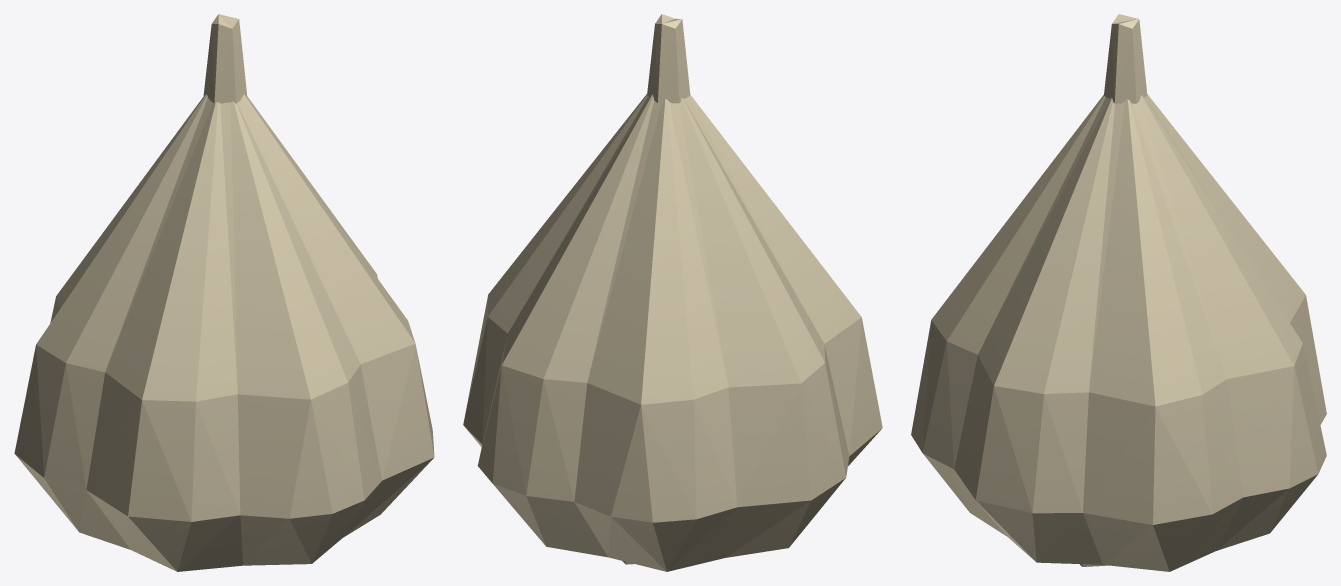
The model's file is Crop_Garlic_02.obj.
3 renders of one model, left to right at view 1: azimuth 30°, elevation 25°; view 2: azimuth 150°, elevation 25°; view 3: azimuth 270°, elevation 25°, orthographic.
Parts seen in each view (by area): view 1: Crop_Garlic_02; view 2: Crop_Garlic_02; view 3: Crop_Garlic_02.
Part boxes in pixels (left/top/right/bottom): Crop_Garlic_02: left=14, top=14, right=434, bottom=571; Crop_Garlic_02: left=463, top=14, right=882, bottom=571; Crop_Garlic_02: left=911, top=14, right=1326, bottom=571.
Bounding box in the file's own units: 0.0957 × 0.1295 × 0.0945.
Materials: 1 (1 with a texture image).
